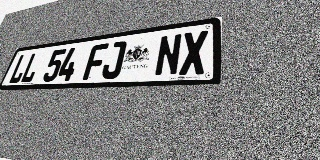4: (56, 47, 81, 81)
5: (41, 49, 67, 82)
F: (82, 43, 109, 80)
J: (100, 41, 127, 79)
L: (7, 53, 31, 84), (19, 52, 43, 83)
N: (154, 33, 182, 77)
X: (179, 30, 208, 75)
